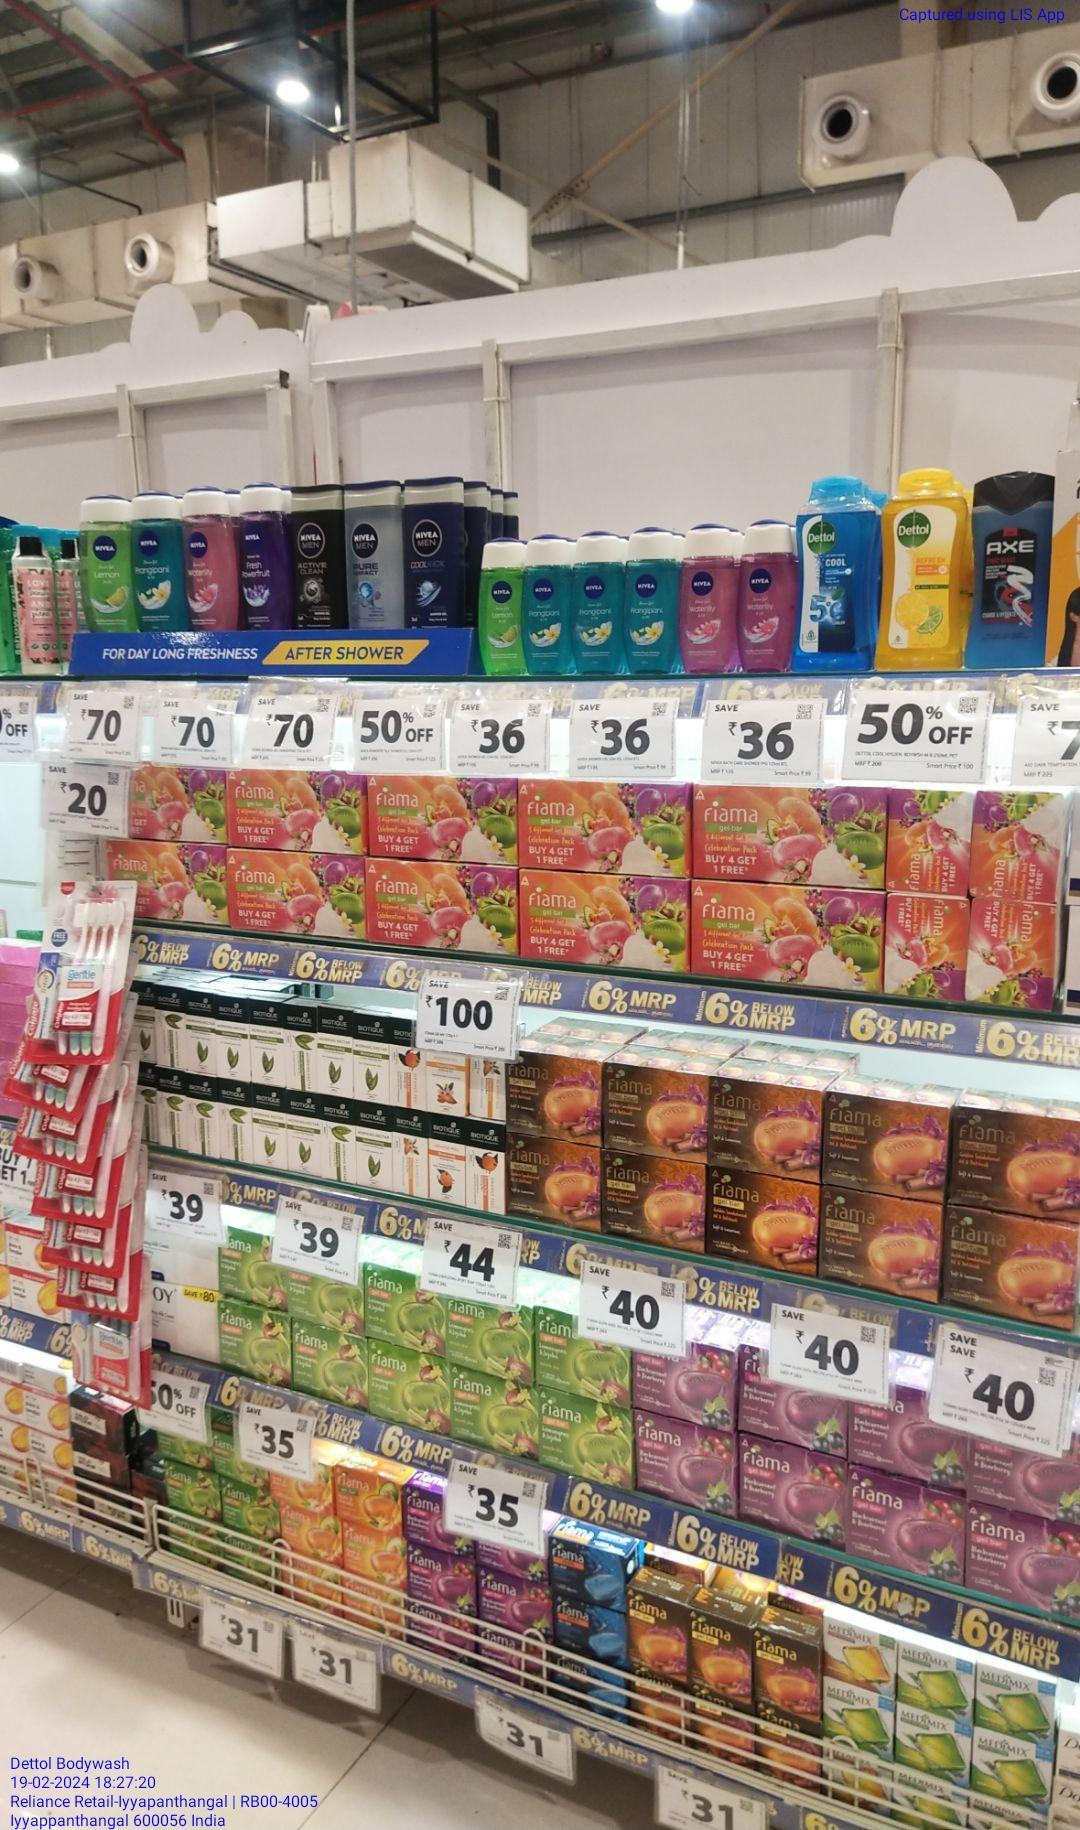Dettol_Bodywash_Cool: (793, 477, 869, 673)
Dettol_Bodywash_Refresh: (873, 470, 963, 666)
Nivea_Shower_Gel_Frangipani_and_Oil_250ML: (627, 527, 678, 671), (575, 536, 625, 673), (132, 495, 179, 632), (526, 538, 570, 675)
Nivea_Shower_Gel_Fresh_Powerfruit_250ML: (243, 482, 288, 630)
Nivea_Shower_Gel_Lemon_and_Oil_250ML: (80, 493, 126, 631), (476, 540, 523, 673)
Nivea_Shower_Gel_Waterlily_and_Oil_250ML: (680, 526, 733, 675), (183, 492, 238, 631), (738, 522, 789, 670)
